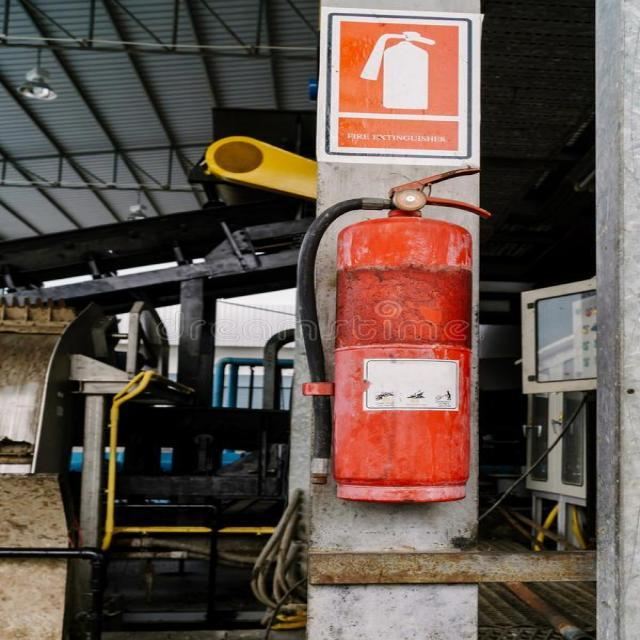fire_extinguisher: (290, 163, 496, 510)
